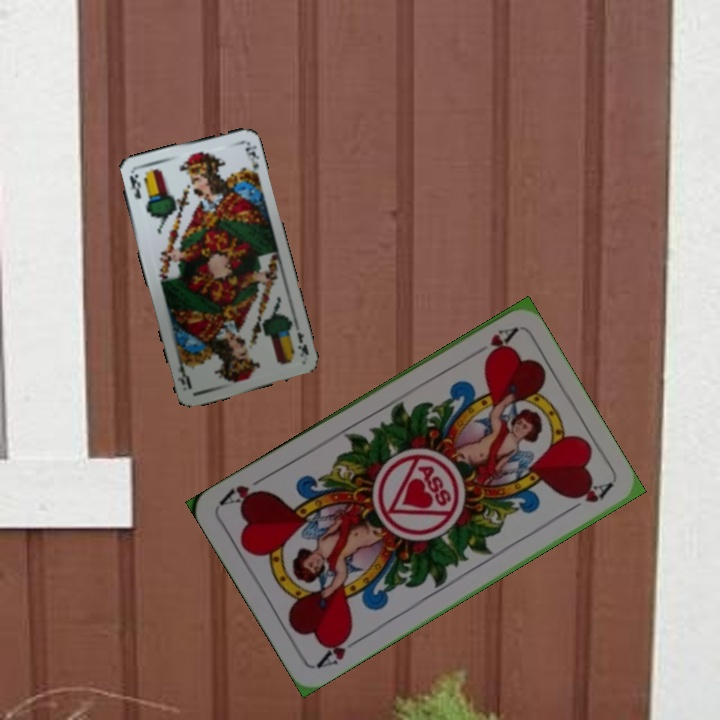EK: (126, 170, 144, 201), (293, 328, 311, 359)
HA: (313, 627, 366, 671), (465, 323, 519, 362)
